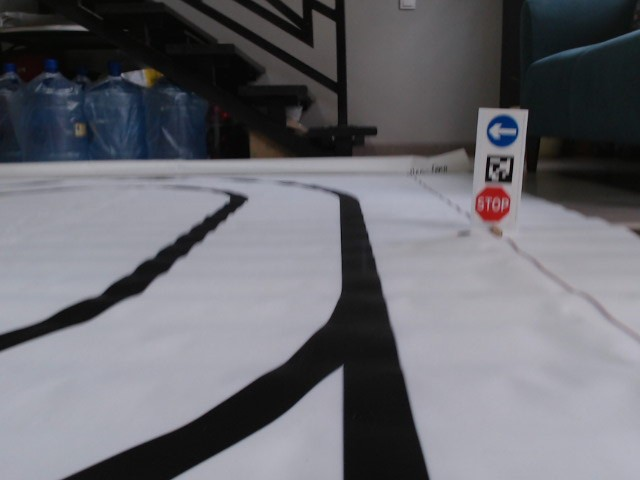Stop: (476, 185, 511, 224)
